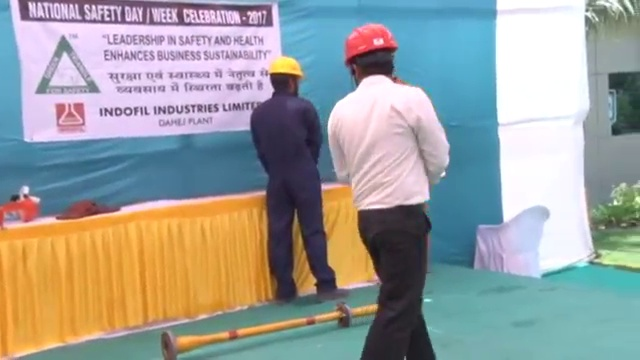helmet: (343, 20, 401, 66), (267, 53, 305, 79)
helmet_on: (341, 18, 402, 85), (266, 50, 307, 100)
person: (328, 20, 451, 360), (251, 50, 350, 303)
